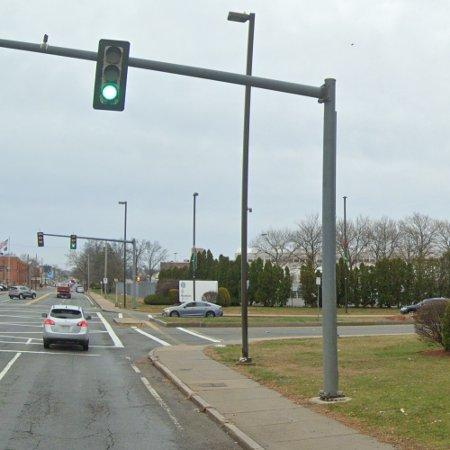traffic lights: (93, 39, 130, 111), (104, 65, 119, 81)
